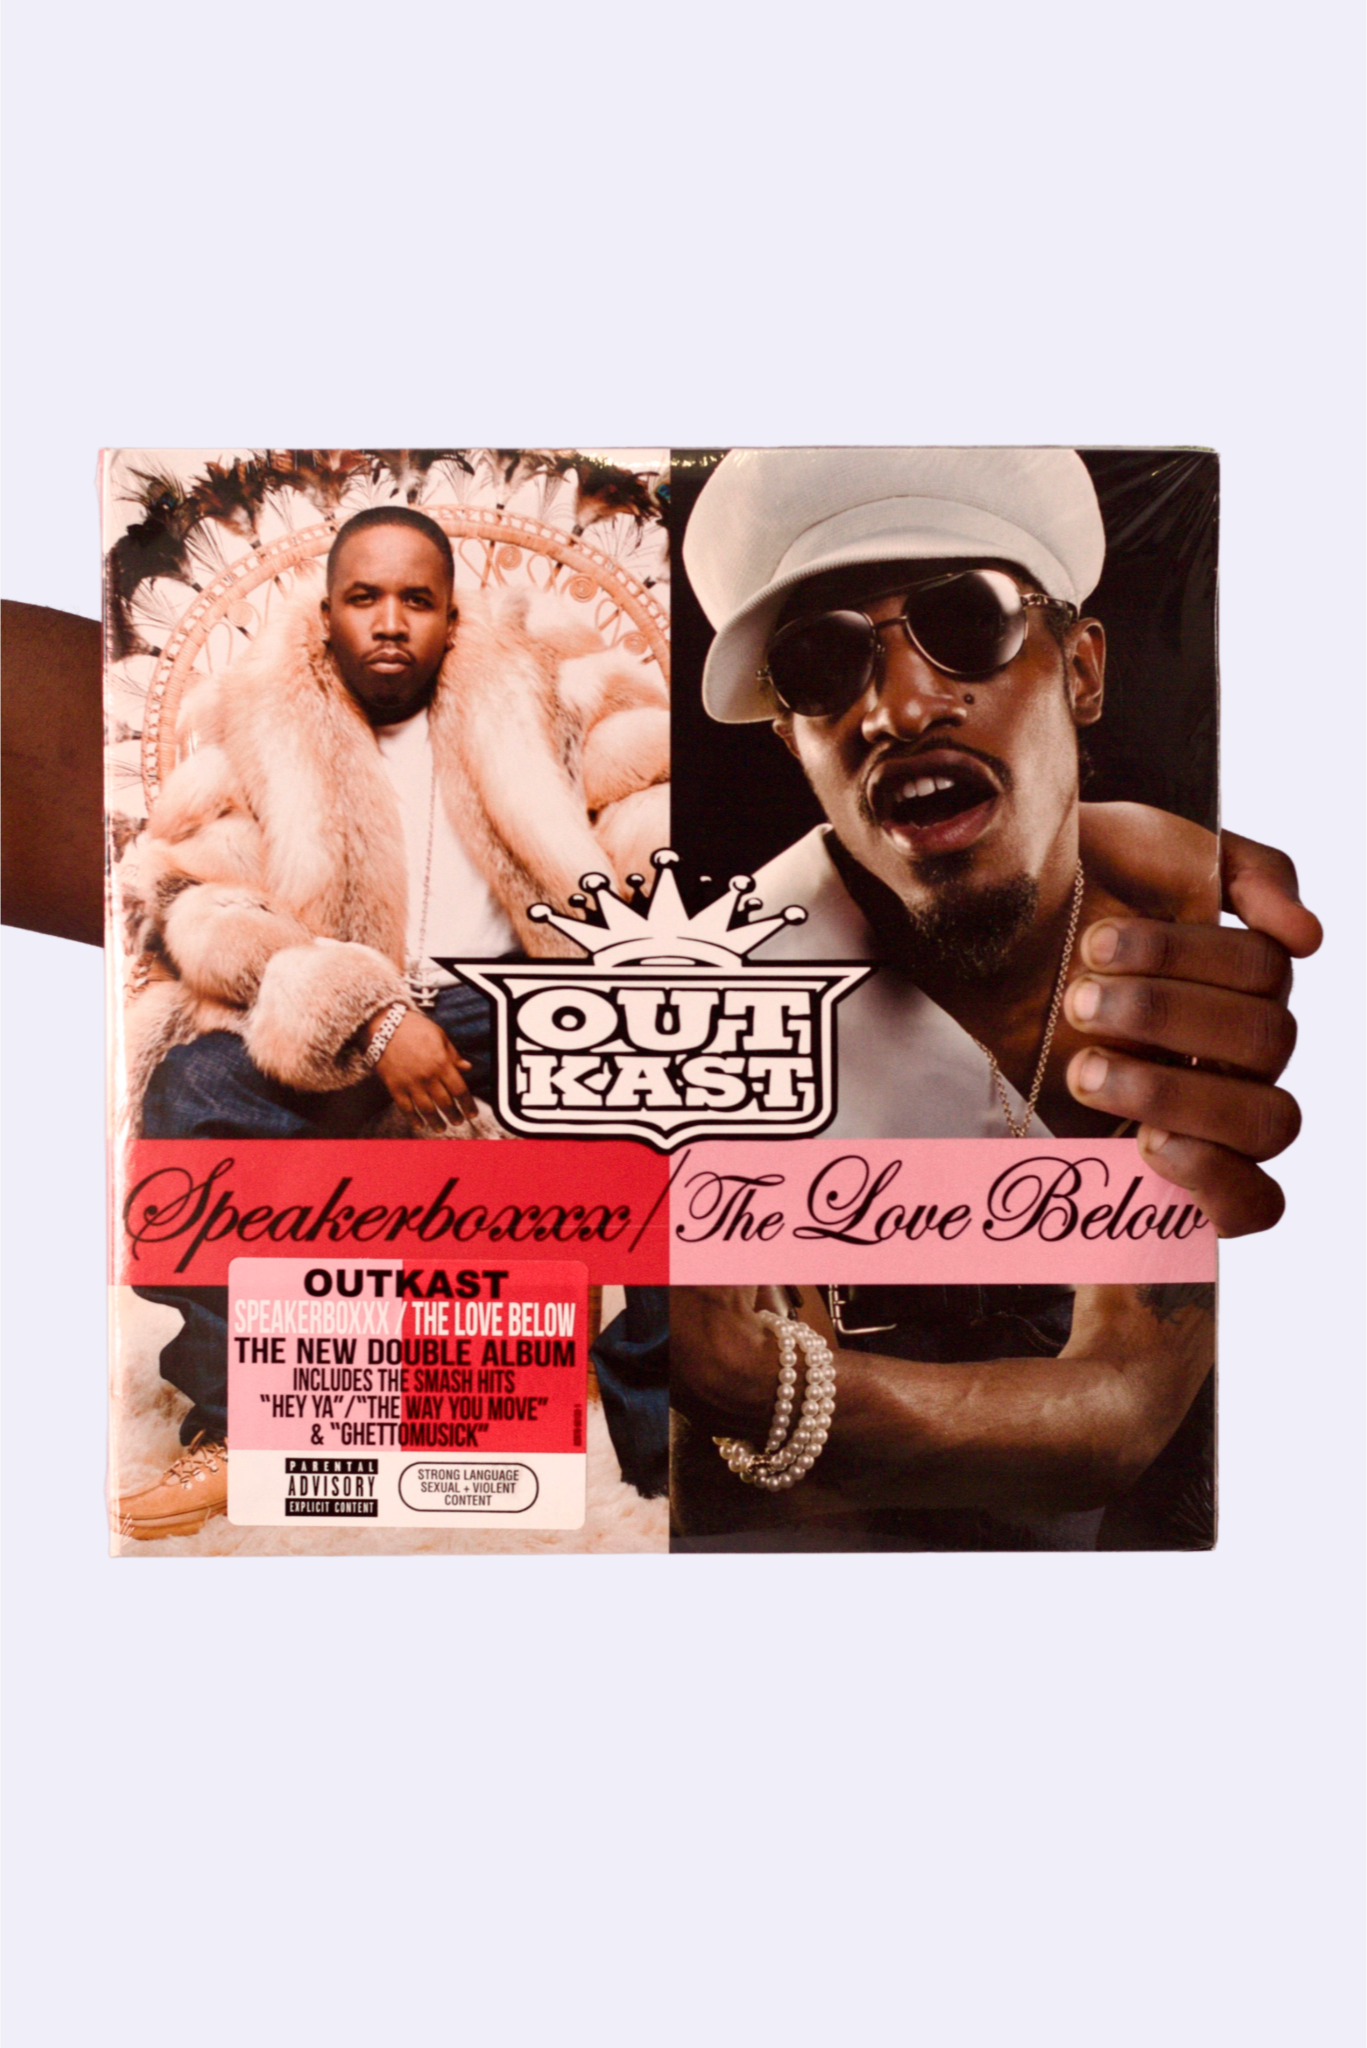outkast_speakerboxxx/the love below: (87, 444, 1231, 1560)
